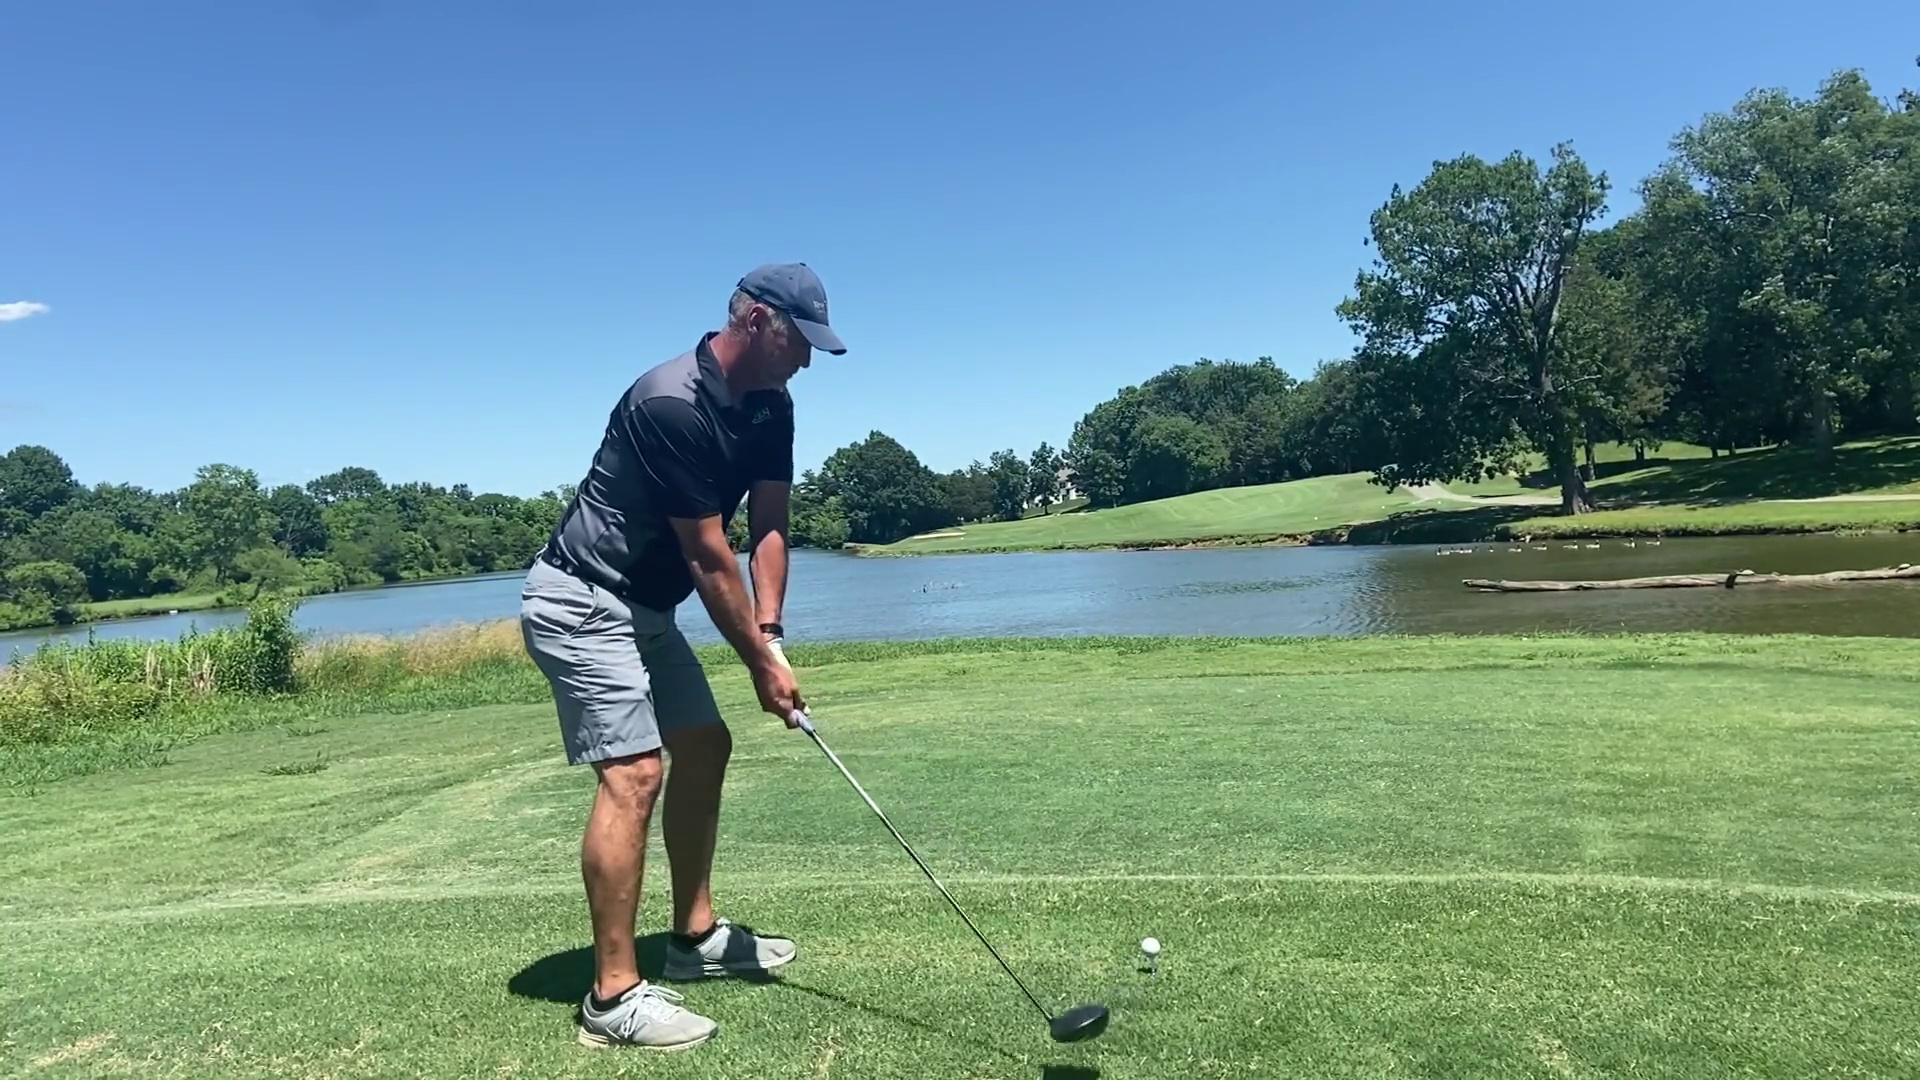ClubHead: (1044, 1004, 1110, 1044)
GolfBall: (1138, 935, 1162, 957)
